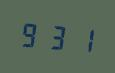nine: (18, 16, 42, 51)
one: (69, 21, 93, 56)
three: (44, 18, 68, 53)
